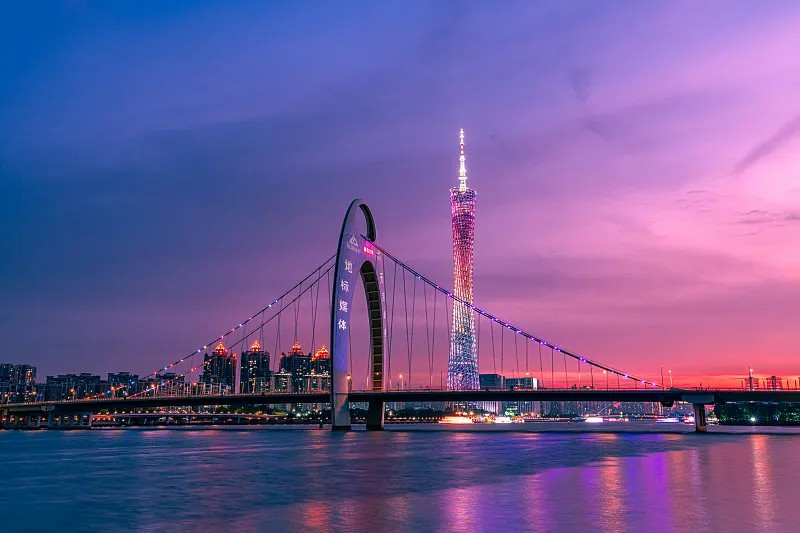Canton: (449, 128, 478, 390)
